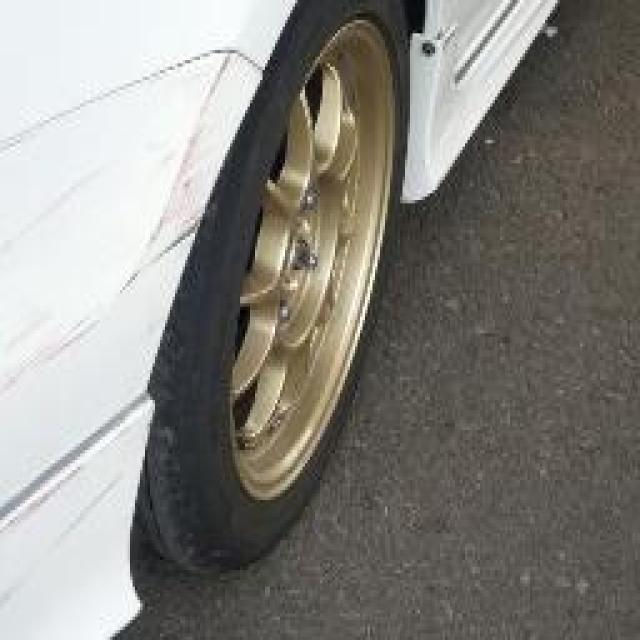Door: (2, 33, 218, 640)
